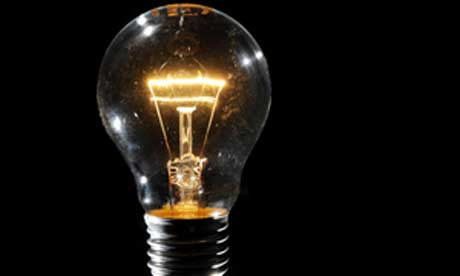Nonrec_Glass: (88, 8, 281, 273)
